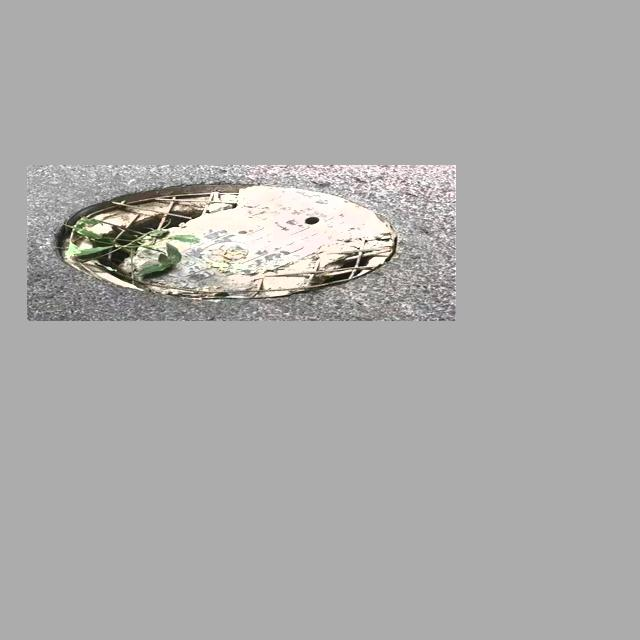broke: (49, 181, 401, 301)
